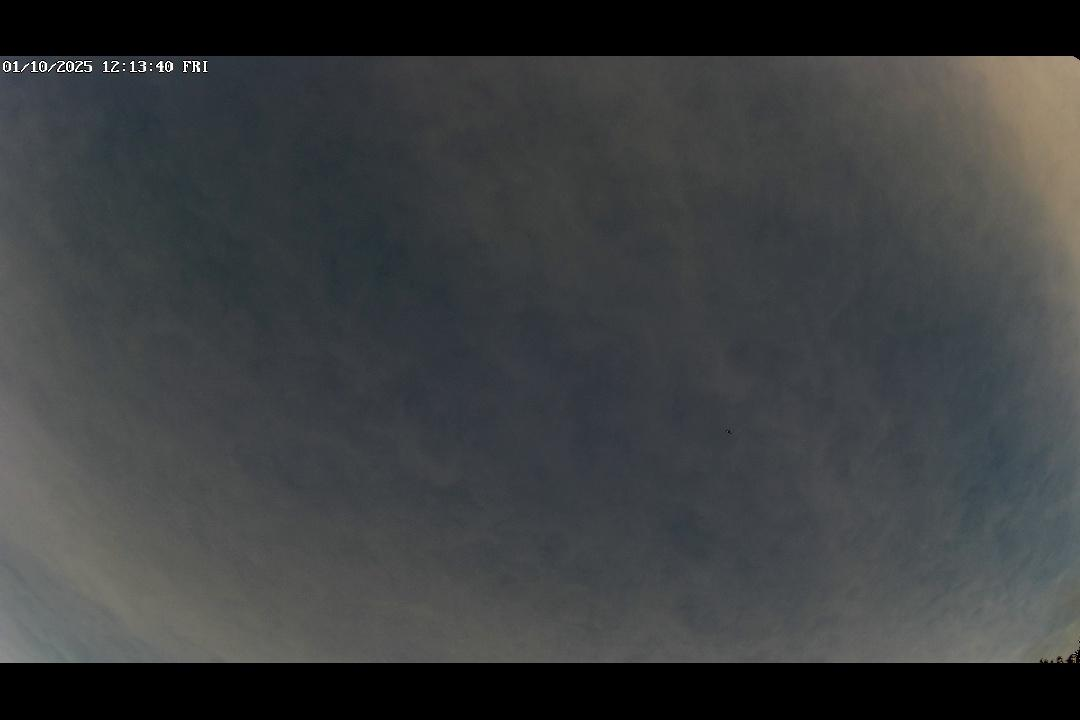WildLife: (720, 422, 739, 443)
